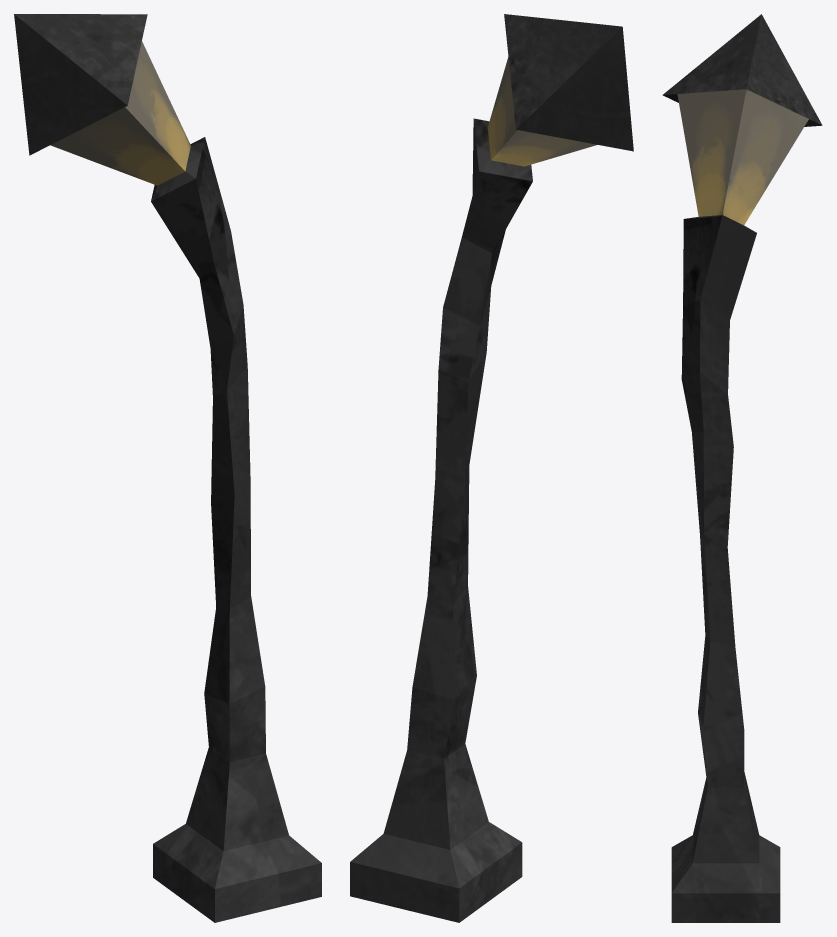
File: Lampadaire.fbx
3 views of the same model, side by side, from view 1: azimuth 30°, elevation 25°; view 2: azimuth 150°, elevation 25°; view 3: azimuth 270°, elevation 25° (orthographic). The views are drawn at different scales.
Parts seen in each view (by area): view 1: LAMP; view 2: LAMP; view 3: LAMP.
Boxes of the visible parts, x1,y1,x2,y2 form: LAMP: [14, 14, 321, 922]; LAMP: [350, 14, 633, 922]; LAMP: [662, 14, 822, 922].
Bounding box in the file's own units: 86.25 × 291 × 53.04.
Materials: 1 (1 with a texture image).
